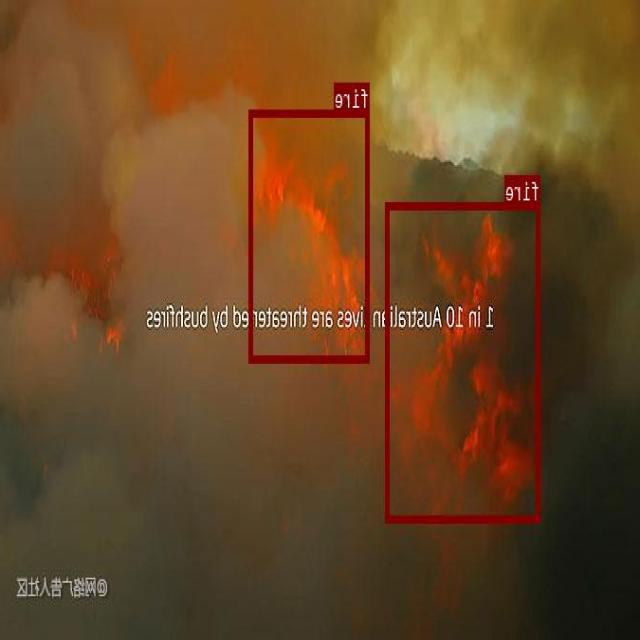fire: (387, 200, 541, 522), (250, 108, 370, 361)
